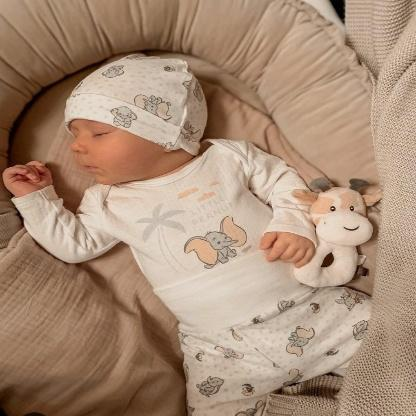baby: (1, 52, 375, 412)
